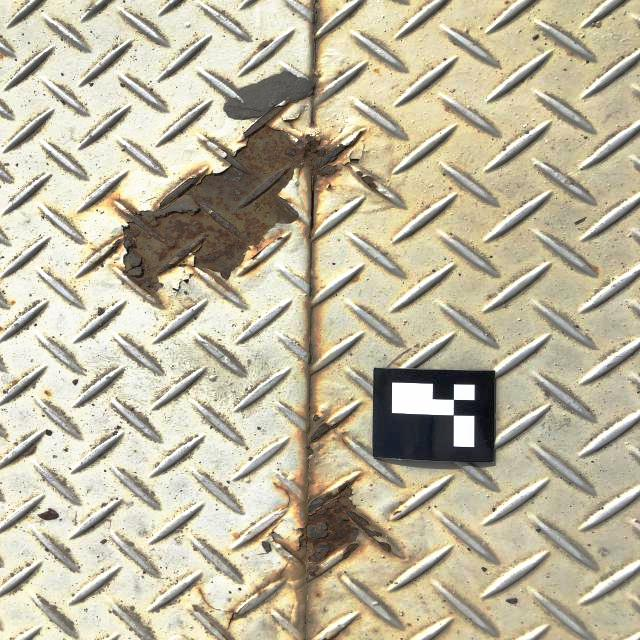Corrosion: (109, 104, 366, 295), (286, 480, 395, 581), (302, 412, 342, 446), (353, 167, 378, 192)
